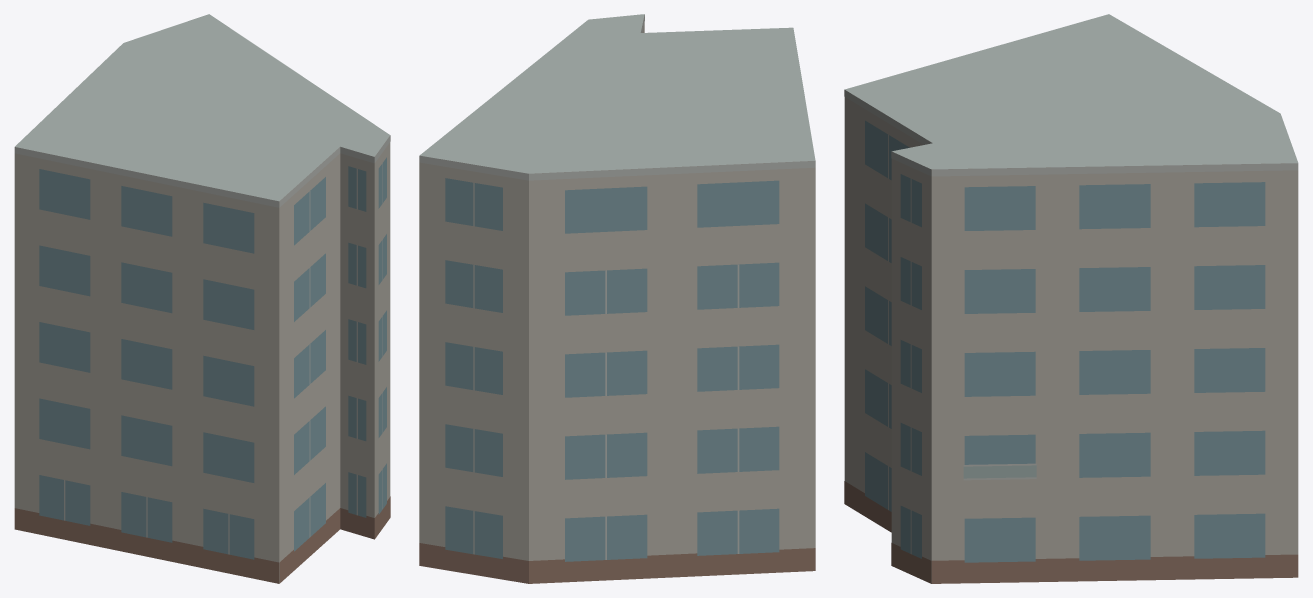
File: survey-upis-33018329.glb
The picture shows the model from 3 angles, left to right: view 1: azimuth 30°, elevation 25°; view 2: azimuth 150°, elevation 25°; view 3: azimuth 270°, elevation 25°; orthographic projection. The views are drawn at different scales.
Parts seen in each view (by area): view 1: survey-upis-33018329.tmp; view 2: survey-upis-33018329.tmp; view 3: survey-upis-33018329.tmp.
Boxes of the visible parts, box(x1,y1,x2,y2) form: survey-upis-33018329.tmp: box(14, 14, 390, 583); survey-upis-33018329.tmp: box(419, 14, 815, 583); survey-upis-33018329.tmp: box(844, 14, 1298, 583).
Size of the model in its own units: 11.51 by 14.3 by 14.21.
